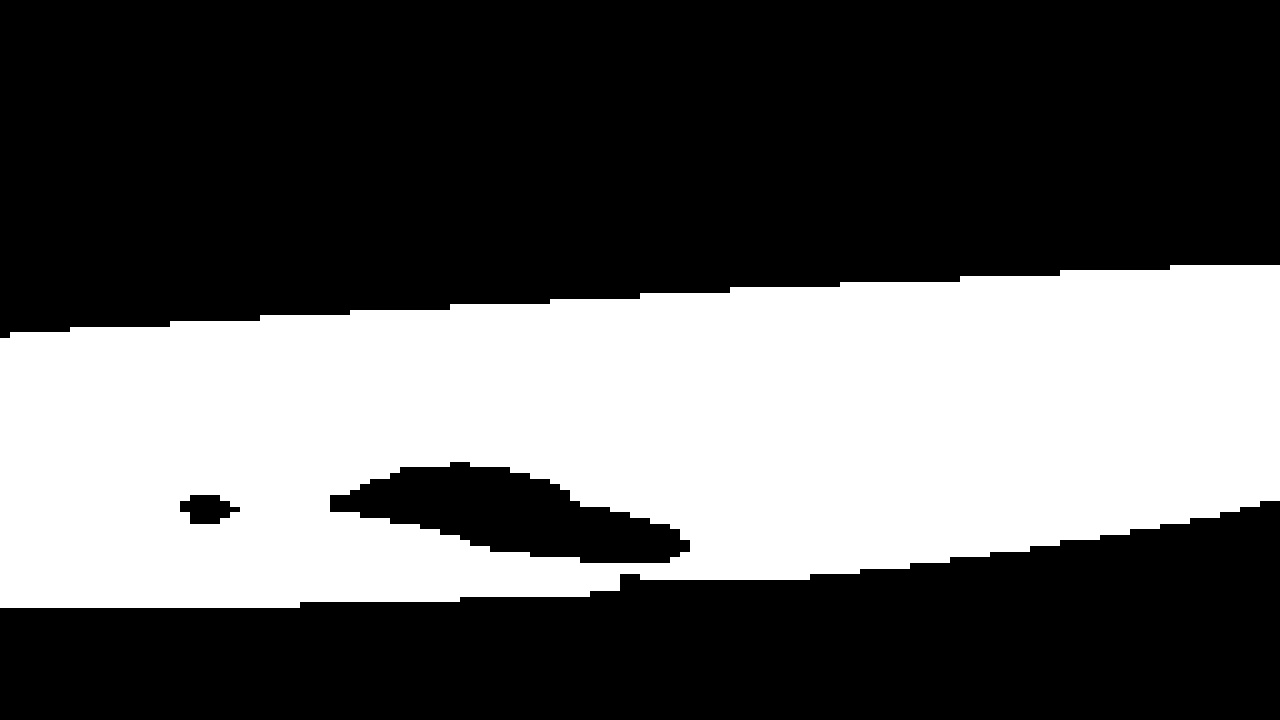Turbine: (9, 240, 1260, 629)
